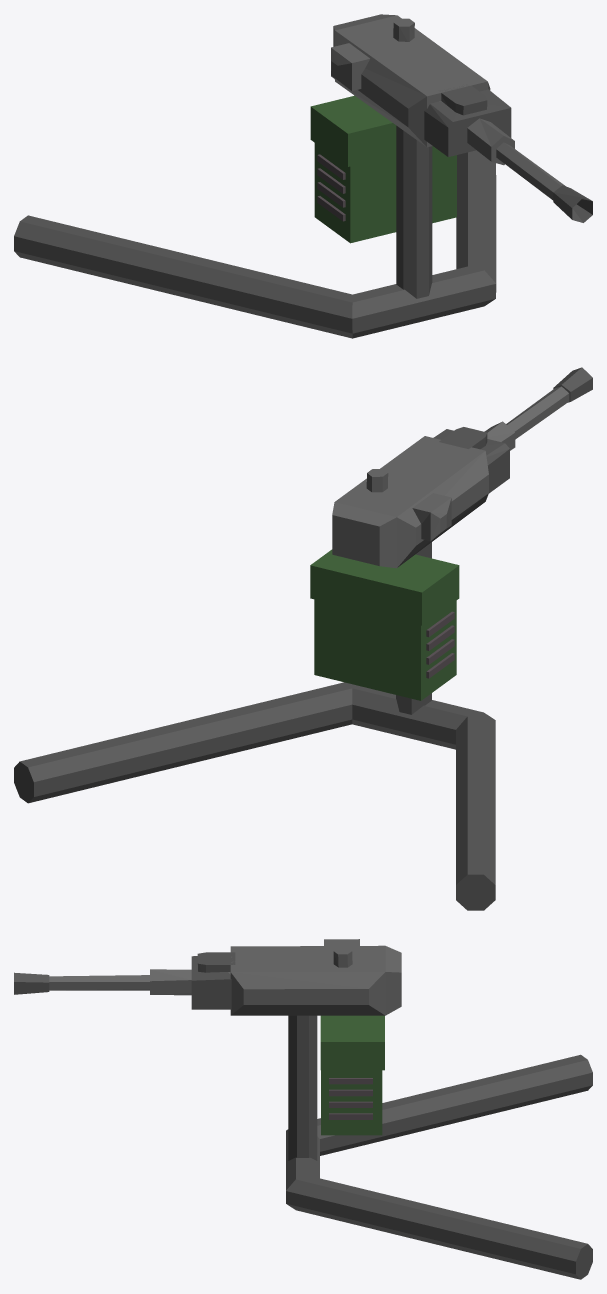
The model's file is Helicopter side gun.glb.
3 views of the same model, one above another, from view 1: azimuth 30°, elevation 25°; view 2: azimuth 150°, elevation 25°; view 3: azimuth 270°, elevation 25° (orthographic). The views are drawn at different scales.
Parts seen in each view (by area): view 1: lmg vertical rotation shaft.004, machine gun, lmg vertical rotation shaft; view 2: lmg vertical rotation shaft.004, lmg vertical rotation shaft, machine gun; view 3: lmg vertical rotation shaft.004, machine gun, lmg vertical rotation shaft.
Part boxes in pixels (<box>): lmg vertical rotation shaft.004: <box>14,150,496,338</box>; machine gun: <box>331,14,592,222</box>; lmg vertical rotation shaft: <box>310,95,456,298</box>; lmg vertical rotation shaft.004: <box>14,682,495,910</box>; lmg vertical rotation shaft: <box>310,542,459,714</box>; machine gun: <box>332,367,592,568</box>; lmg vertical rotation shaft.004: <box>286,1054,592,1279</box>; machine gun: <box>14,939,401,1015</box>; lmg vertical rotation shaft: <box>288,1015,384,1160</box>.
Bounding box in the file's own units: 1.83 × 1 × 2.22.
